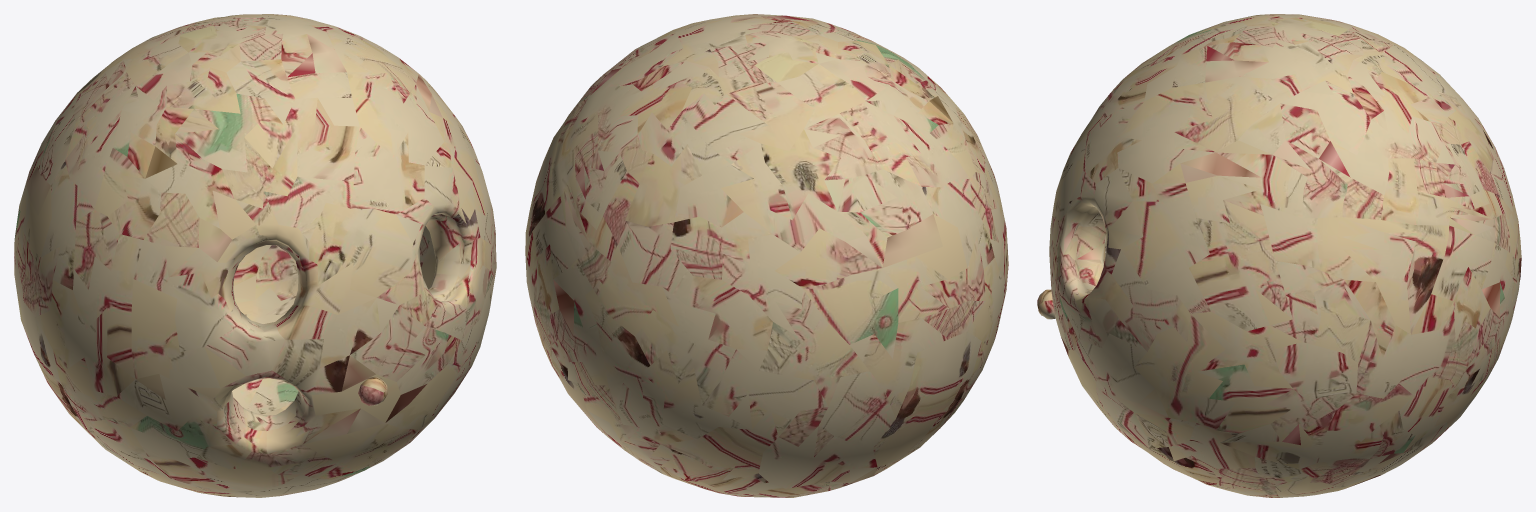
Rendered from bolabolicheObjeto.fbx.
3 renders of one model, left to right at view 1: azimuth 30°, elevation 25°; view 2: azimuth 150°, elevation 25°; view 3: azimuth 270°, elevation 25°, orthographic.
Visible parts, largest first — view 1: Mesh_0; view 2: Mesh_0; view 3: Mesh_0.
Part boxes in pixels (x1,y1,x2,y2): Mesh_0: (14,14,496,497); Mesh_0: (525,14,1008,497); Mesh_0: (1037,14,1521,497).
Size of the model in its own units: 190 by 191 by 190.
